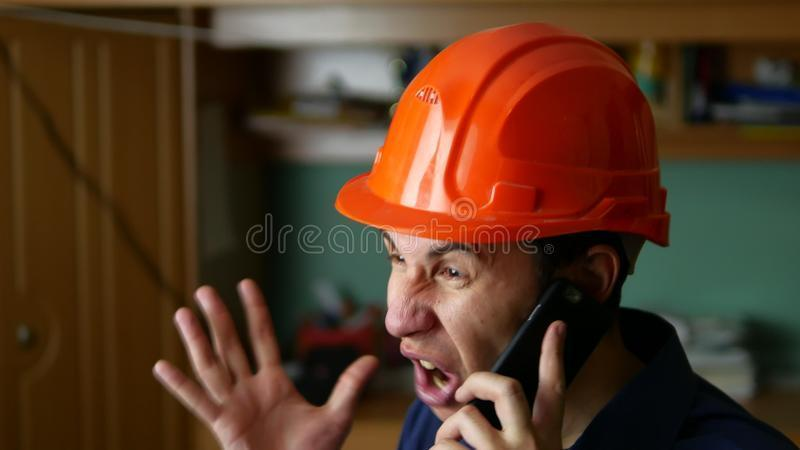helmet: (335, 13, 685, 247)
person: (332, 15, 717, 450)
